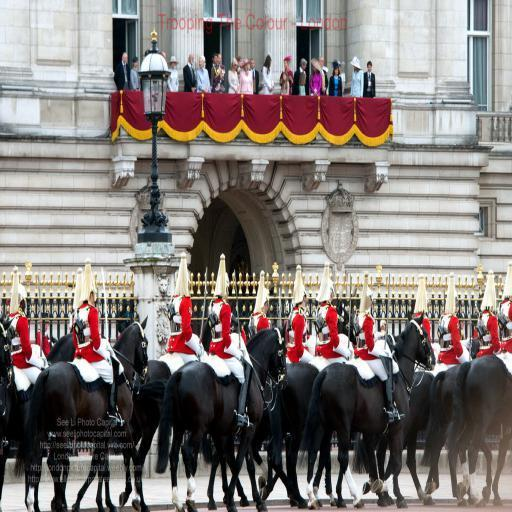horse: (0, 310, 512, 512)
